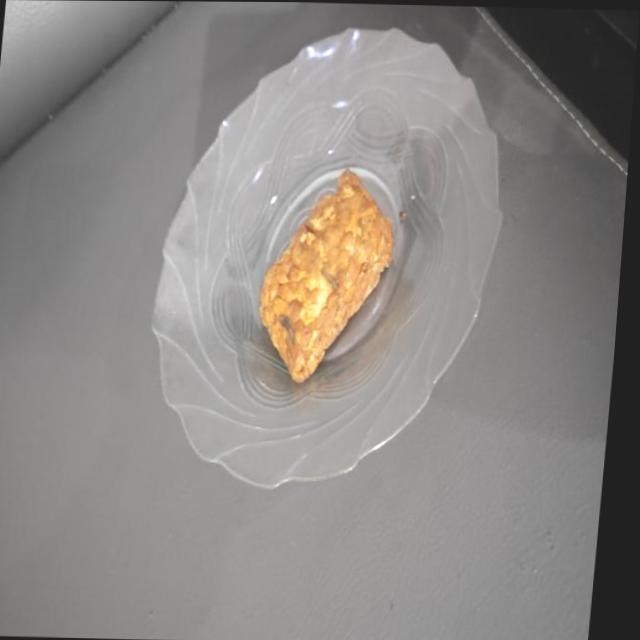tempe_goreng: (260, 169, 394, 382)
